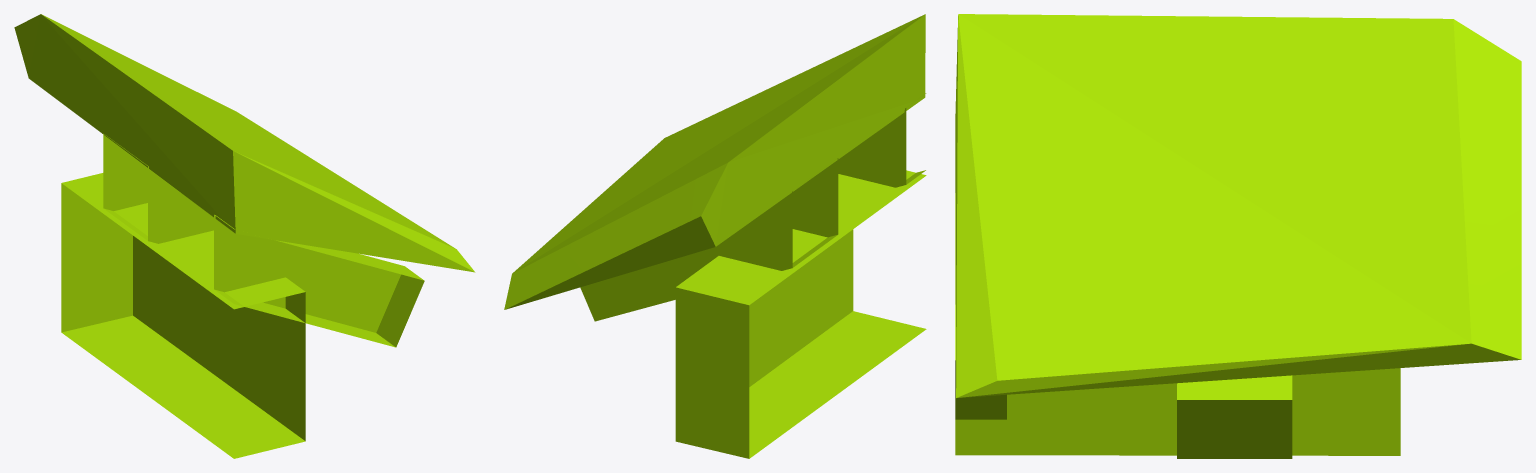
Rendered from WallKit_Verge_End_Left_COL.fbx.
The picture shows the model from 3 angles, left to right: view 1: azimuth 30°, elevation 25°; view 2: azimuth 150°, elevation 25°; view 3: azimuth 270°, elevation 25°; orthographic projection. The views are drawn at different scales.
Visible parts, largest first — view 1: WallKit_Verge_End_Left_COL; view 2: WallKit_Verge_End_Left_COL; view 3: WallKit_Verge_End_Left_COL.
Boxes of the visible parts, box(x1,y1,x2,y2) form: WallKit_Verge_End_Left_COL: box(14, 14, 475, 458); WallKit_Verge_End_Left_COL: box(504, 14, 926, 458); WallKit_Verge_End_Left_COL: box(955, 14, 1521, 458).
Size of the model in its own units: 69.84 by 84.99 by 110.
